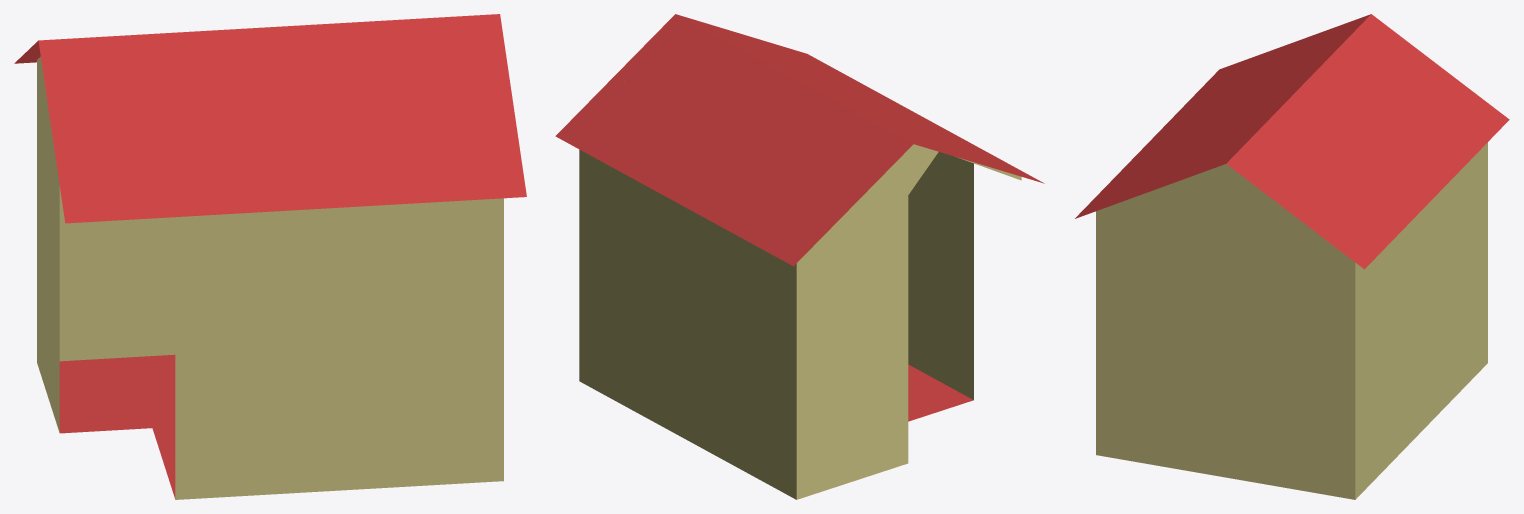
The picture shows the model from 3 angles, left to right: view 1: azimuth 30°, elevation 25°; view 2: azimuth 150°, elevation 25°; view 3: azimuth 270°, elevation 25°; orthographic projection. The views are drawn at different scales.
Size of the model in its own units: 14.1 by 12.97 by 10.57.
